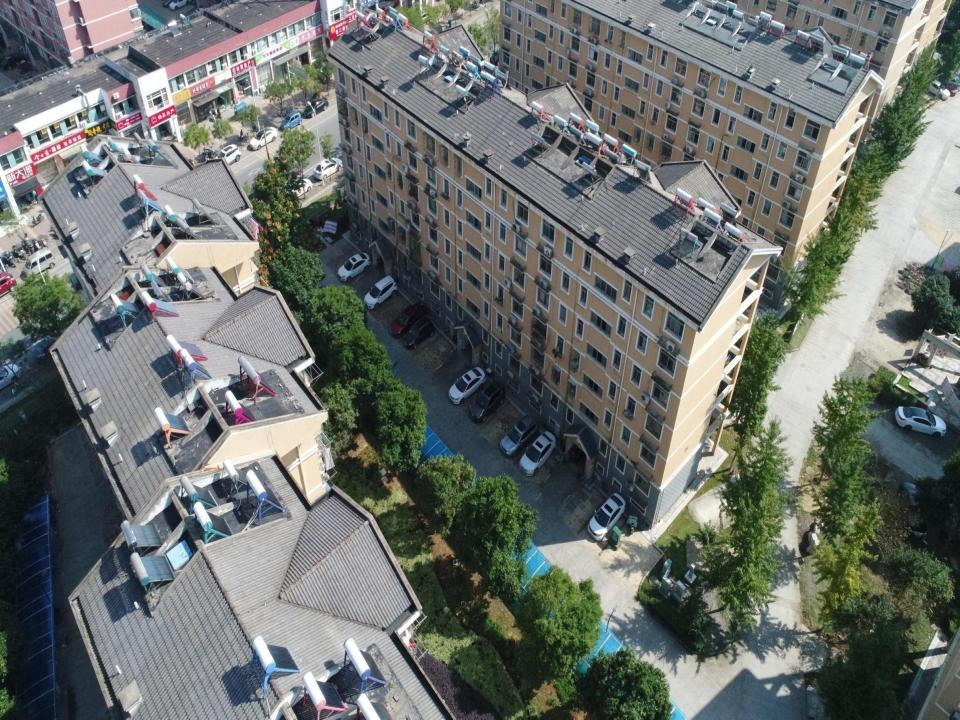car: (587, 492, 626, 541), (899, 481, 928, 540), (895, 406, 946, 438), (520, 431, 556, 476), (500, 414, 538, 456), (470, 380, 506, 423), (448, 366, 486, 405), (390, 303, 428, 337), (364, 275, 398, 309), (402, 316, 435, 350), (337, 253, 371, 282), (33, 333, 60, 364), (212, 144, 241, 168), (313, 157, 343, 180), (249, 127, 278, 150), (0, 362, 22, 391), (287, 178, 312, 200), (925, 78, 950, 100), (303, 97, 329, 118), (0, 270, 17, 296), (281, 110, 302, 130), (938, 76, 957, 96), (414, 8, 434, 25), (489, 49, 503, 66), (948, 74, 960, 88)
van: (22, 247, 56, 279)
